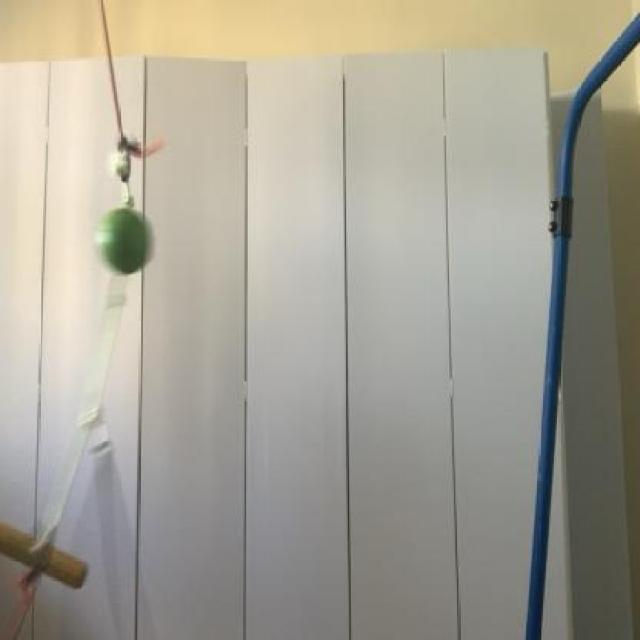baseball: (98, 196, 158, 279)
